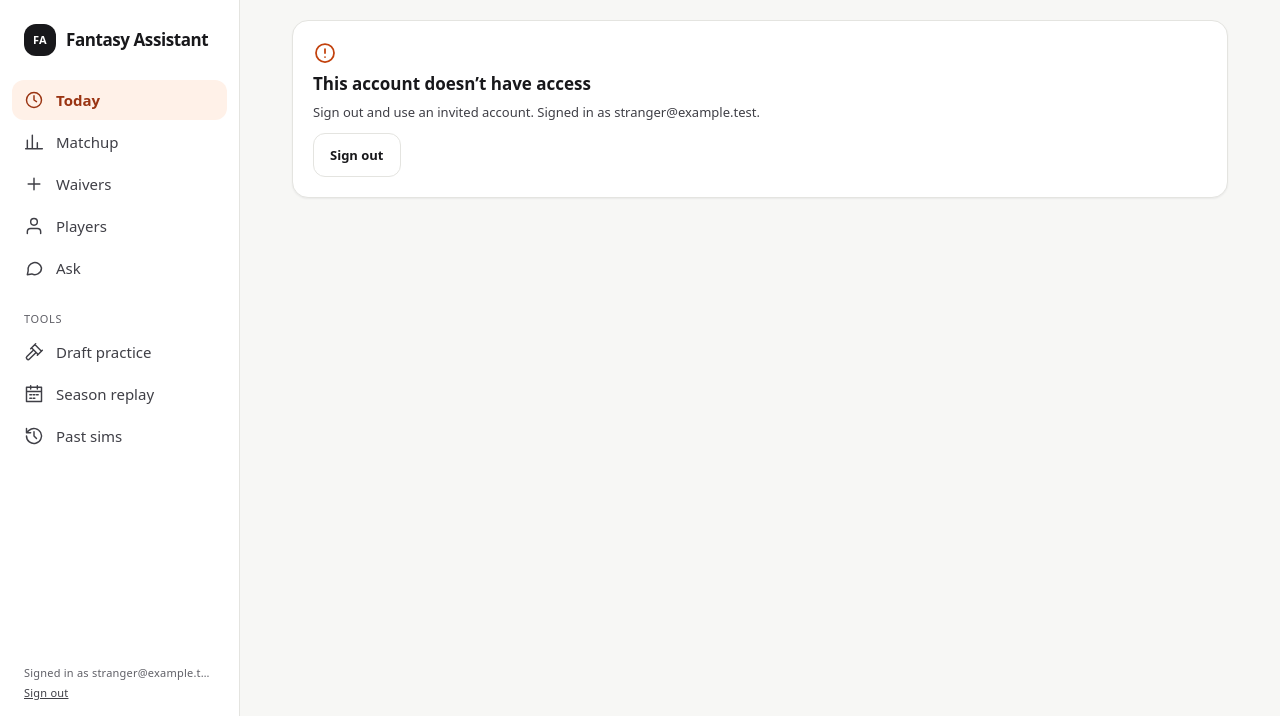
no access on /today › explains, names the account and offers Sign out
Check: the message shows "This account doesn’t have access", box [313, 72, 591, 95]
Check: the message shows "Sign out and use an invited account.", box [313, 103, 534, 121]
What coordinates should you click on to do the following:
click the button "Sign out" below "Sign out and use an invited account."
I would click on:
 (357, 155)
Its box is [313, 133, 400, 177].
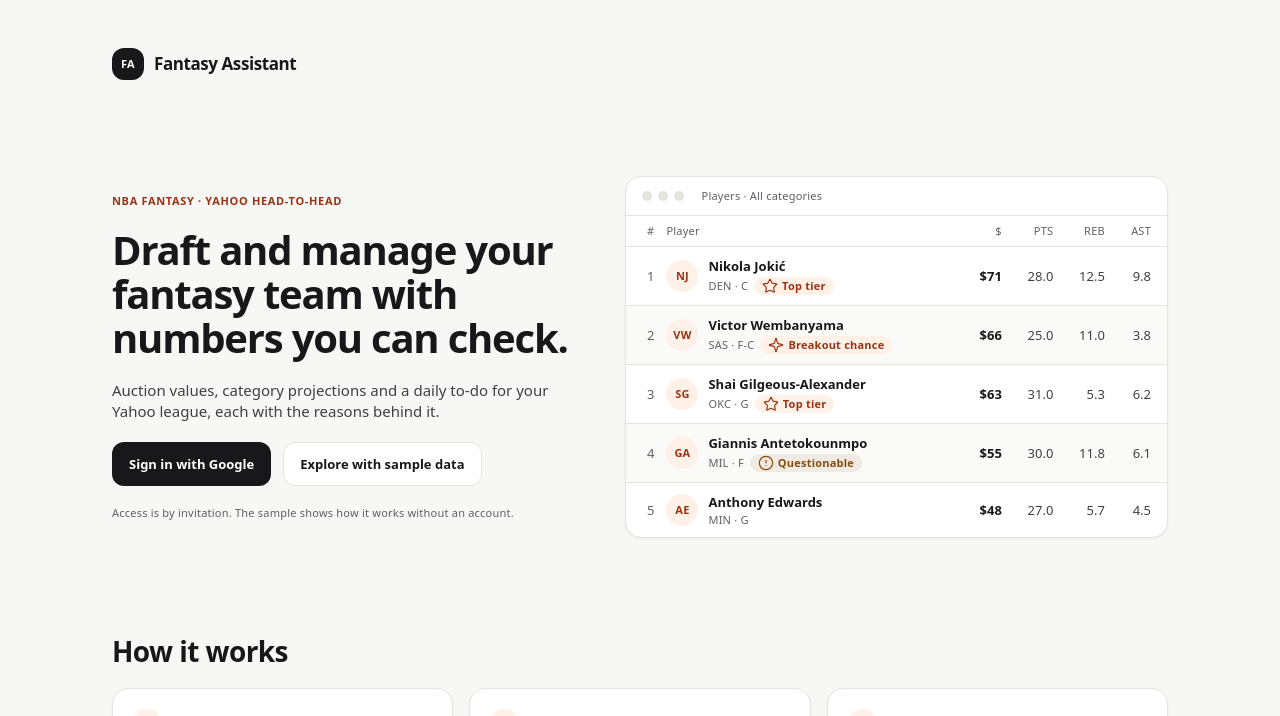
Check: the button "Sign in with Google" is shown, box [112, 442, 271, 486]
